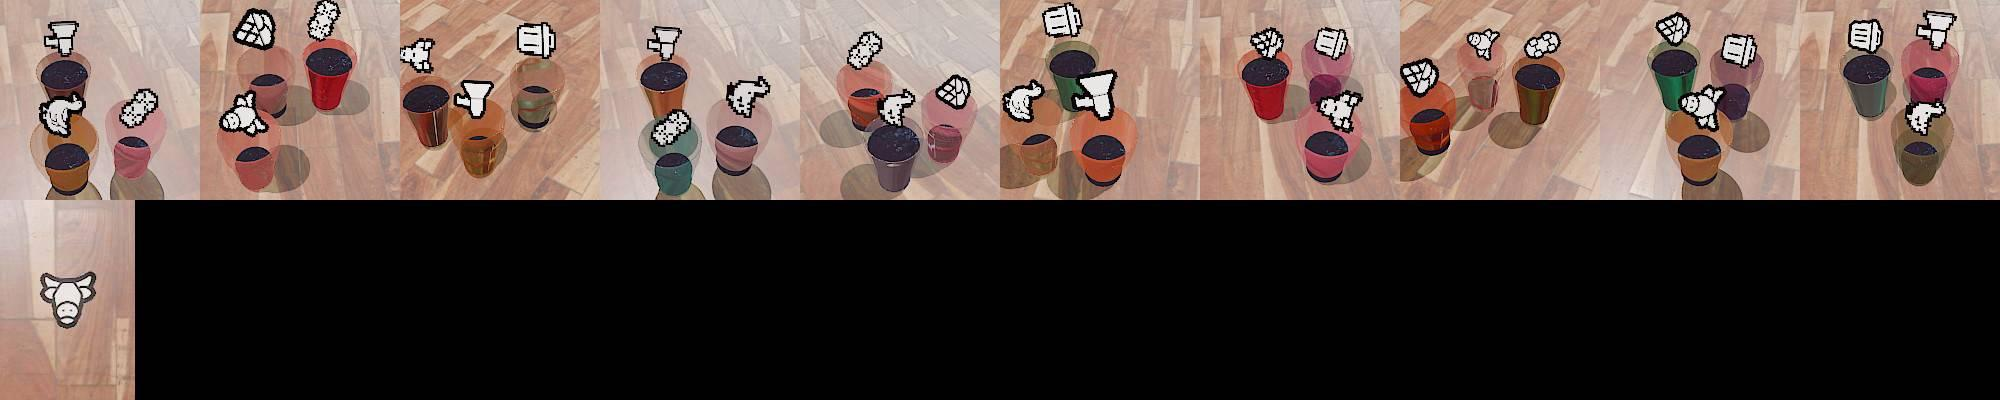icon: (38, 270, 97, 331), (1071, 69, 1120, 121), (218, 88, 269, 136), (1677, 83, 1727, 130), (1318, 87, 1364, 132), (40, 93, 85, 136), (724, 74, 769, 117), (1001, 79, 1043, 122), (232, 8, 276, 50), (649, 107, 693, 148), (453, 78, 496, 118), (875, 85, 916, 127), (1917, 10, 1958, 51), (120, 88, 161, 127), (518, 20, 557, 60), (305, 0, 342, 42), (1904, 99, 1948, 135), (1401, 57, 1439, 97), (1042, 3, 1083, 39), (847, 29, 884, 69), (934, 74, 971, 111), (399, 37, 435, 74), (45, 20, 80, 57), (1249, 25, 1287, 60), (1719, 33, 1758, 68), (1847, 18, 1883, 54), (647, 25, 682, 61), (1654, 13, 1691, 46), (1314, 25, 1348, 60), (1466, 28, 1501, 61), (1523, 31, 1561, 60)
